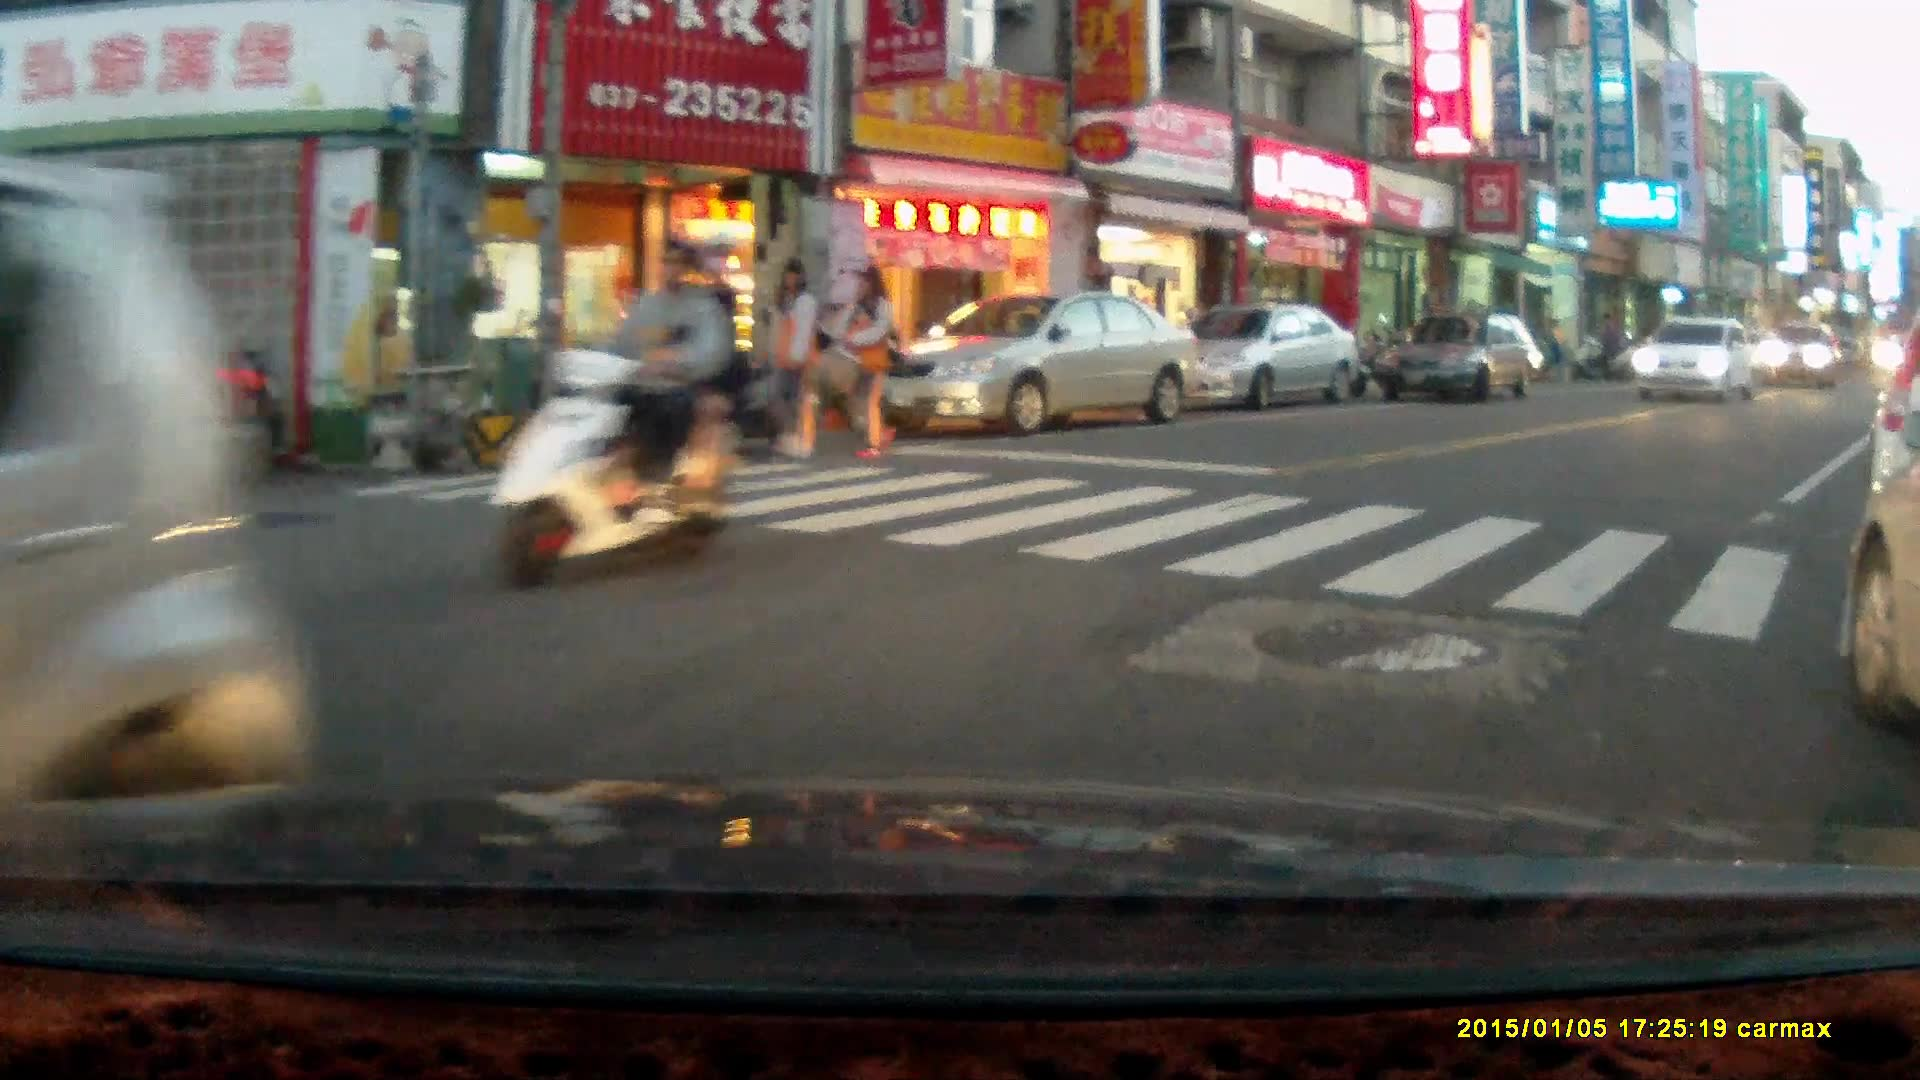pedestrian: (756, 259, 827, 461), (830, 260, 898, 459)
rider: (486, 229, 740, 589)
vehicle: (863, 292, 1203, 436), (1154, 302, 1363, 412), (1377, 311, 1548, 406), (1863, 357, 1920, 579), (1631, 316, 1759, 400), (1754, 318, 1848, 390)
